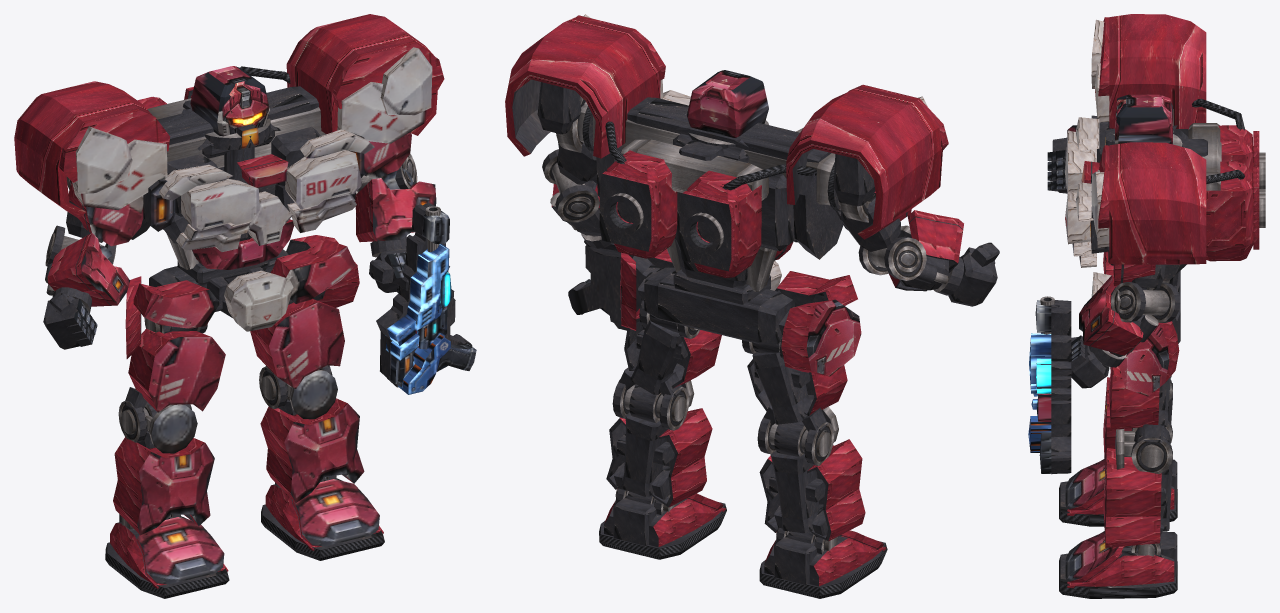
The model's file is bulwark-modular-v1.glb.
The picture shows the model from 3 angles, left to right: view 1: azimuth 30°, elevation 25°; view 2: azimuth 150°, elevation 25°; view 3: azimuth 270°, elevation 25°; orthographic projection. The views are drawn at different scales.
Parts seen in each view (by area): view 1: CORE_chest, CORE_upper_arm.R, CORE_upper_arm.L, CORE_pelvis, CORE_hand.L, CORE_shin.R, CORE_shin.L, CORE_thigh.R, CORE_foot.R, CORE_foot.L, CORE_thigh.L, CORE_forearm.R (+3 smaller); view 2: CORE_chest, CORE_upper_arm.L, CORE_pelvis, CORE_upper_arm.R, CORE_shin.R, CORE_shin.L, CORE_thigh.L, CORE_thigh.R, CORE_foot.R, CORE_foot.L, CORE_forearm.R, CORE_head (+3 smaller); view 3: CORE_upper_arm.L, CORE_chest, CORE_upper_arm.R, CORE_hand.L, CORE_shin.L, CORE_foot.L, CORE_forearm.L, CORE_thigh.L, CORE_pelvis, CORE_foot.R, CORE_head, CORE_hand.R (+1 smaller).
Boxes of the visible parts, <box> form: CORE_chest: <box>131,66,374,269</box>; CORE_upper_arm.R: <box>14,81,170,246</box>; CORE_upper_arm.L: <box>286,14,444,178</box>; CORE_pelvis: <box>125,235,359,358</box>; CORE_hand.L: <box>369,203,476,394</box>; CORE_shin.R: <box>113,402,214,535</box>; CORE_shin.L: <box>260,369,364,502</box>; CORE_thigh.R: <box>118,318,225,442</box>; CORE_foot.R: <box>105,514,229,598</box>; CORE_foot.L: <box>261,475,384,560</box>; CORE_thigh.L: <box>250,298,344,408</box>; CORE_forearm.R: <box>45,225,129,306</box>; CORE_chest: <box>578,90,875,291</box>; CORE_upper_arm.L: <box>505,14,665,184</box>; CORE_pelvis: <box>620,249,861,376</box>; CORE_upper_arm.R: <box>786,84,948,251</box>; CORE_shin.R: <box>759,406,865,554</box>; CORE_shin.L: <box>606,380,712,514</box>; CORE_thigh.L: <box>612,308,721,430</box>; CORE_thigh.R: <box>747,342,847,465</box>; CORE_foot.R: <box>759,530,887,598</box>; CORE_foot.L: <box>599,489,726,559</box>; CORE_forearm.R: <box>858,210,963,291</box>; CORE_head: <box>687,70,768,137</box>; CORE_upper_arm.L: <box>1091,142,1206,288</box>; CORE_chest: <box>1065,98,1265,289</box>; CORE_upper_arm.R: <box>1091,14,1206,129</box>; CORE_hand.L: <box>1028,296,1126,474</box>; CORE_shin.L: <box>1103,427,1172,555</box>; CORE_foot.L: <box>1059,531,1177,598</box>; CORE_forearm.L: <box>1079,275,1180,356</box>; CORE_thigh.L: <box>1109,354,1172,473</box>; CORE_pelvis: <box>1091,251,1180,396</box>; CORE_foot.R: <box>1059,459,1177,526</box>; CORE_head: <box>1115,94,1172,144</box>; CORE_hand.R: <box>1047,137,1067,193</box>.
Bounding box in the file's own units: 3.85 × 4.21 × 2.
1 material, 1 textured.
